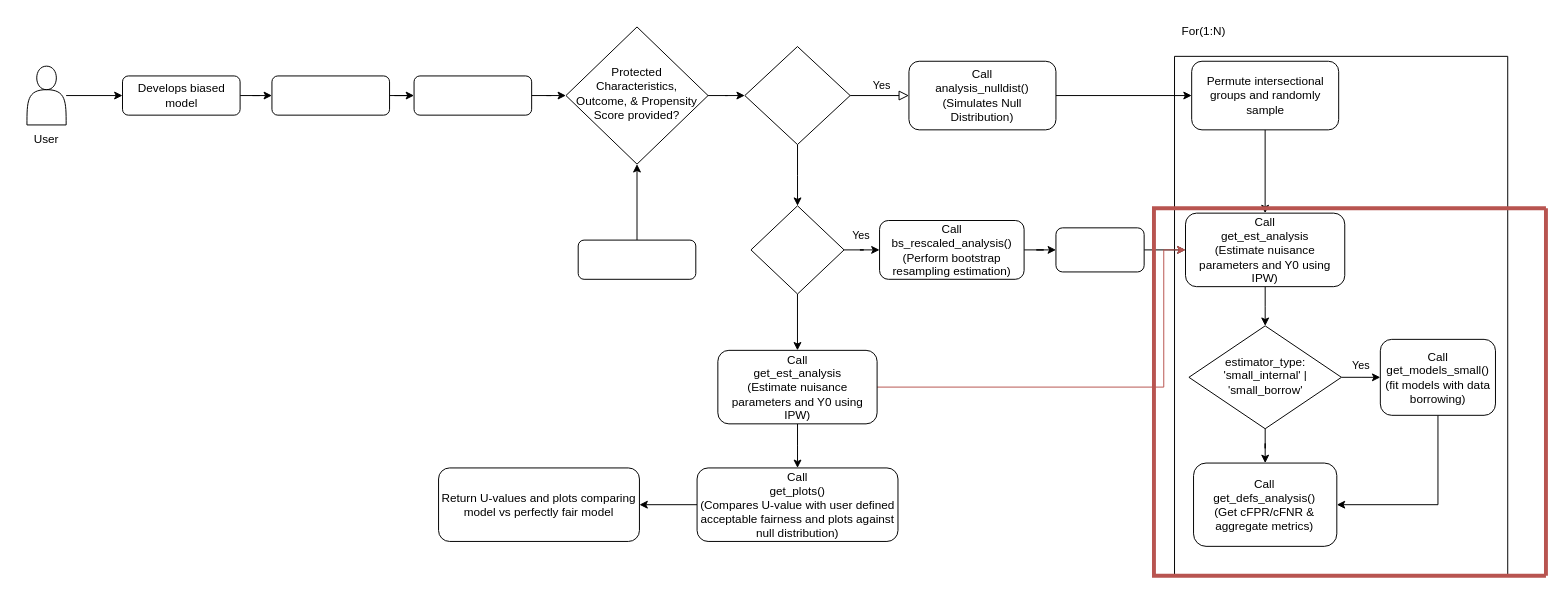
Some shapes in this 1564 by 594 pixel diagram are drawn without their labels. Here are the shapes that lost their labels. From the top down, the box of each, then its label:
(271, 75, 390, 115): Computes Propensity Scores
(413, 75, 532, 115): Calls analysis_estimation()
(744, 46, 850, 145): gen_null: True
(577, 239, 696, 279): Exits: User must provide variables
(750, 205, 844, 294): bootstrap: 'rescaled'
(1055, 227, 1144, 272): Stratify and Resample
